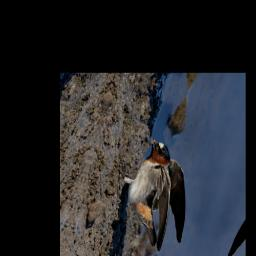Swallow: (98, 132, 207, 256)
